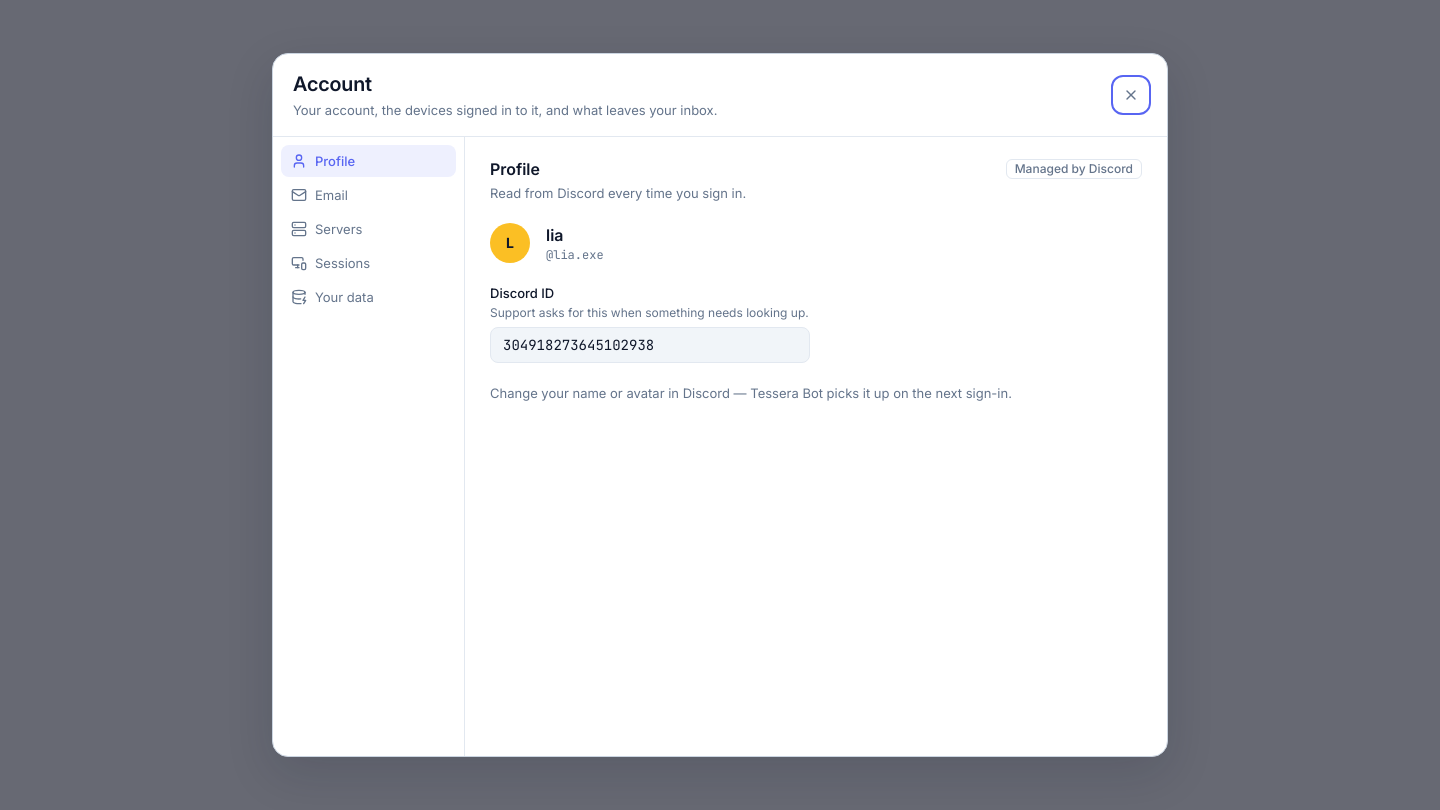
Test: AccountPanel › shows one section at a time
Click the tab "Sessions": (368, 263) left=281, top=247, right=456, bottom=279
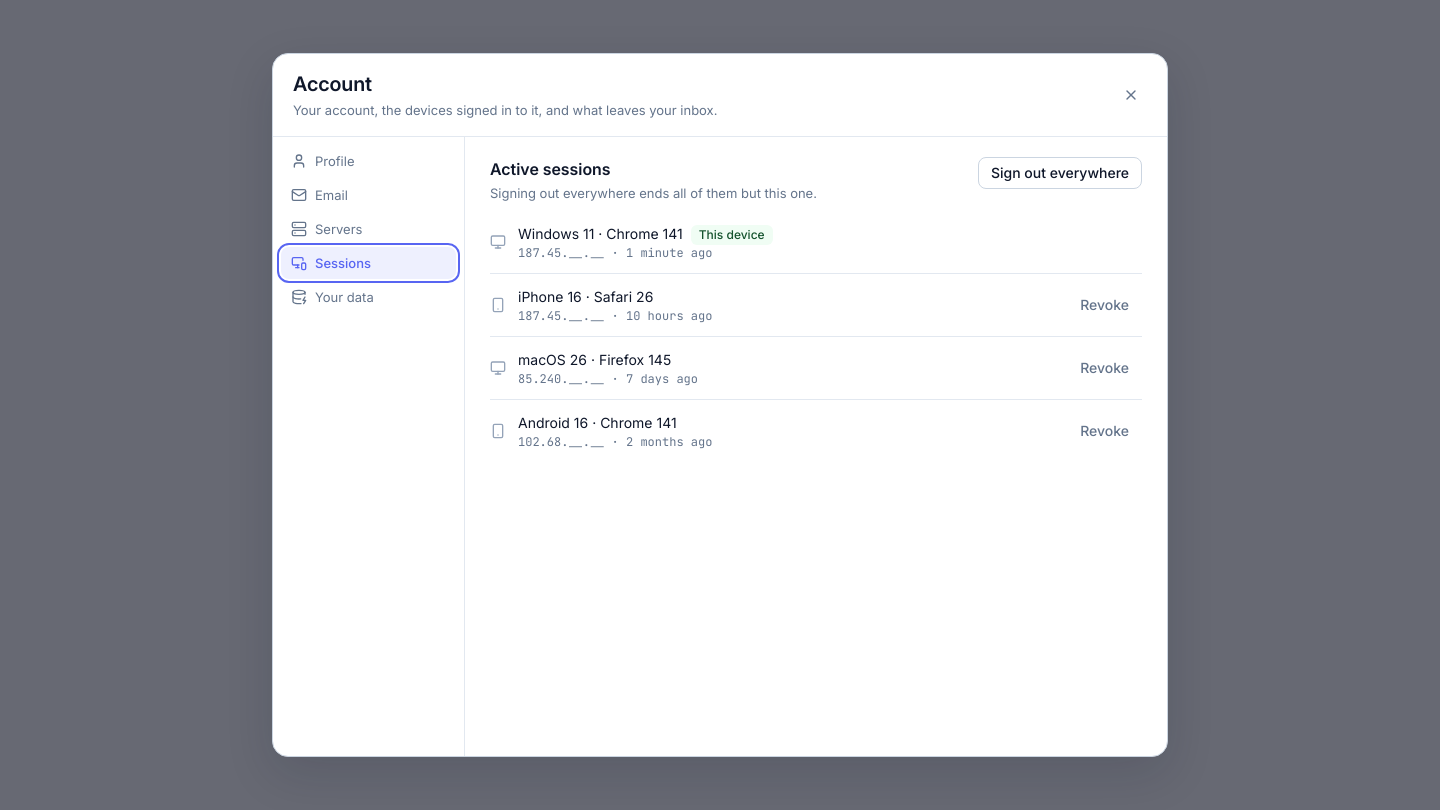
Expected: the heading "Active sessions" is shown, left=490, top=159, right=610, bottom=179
